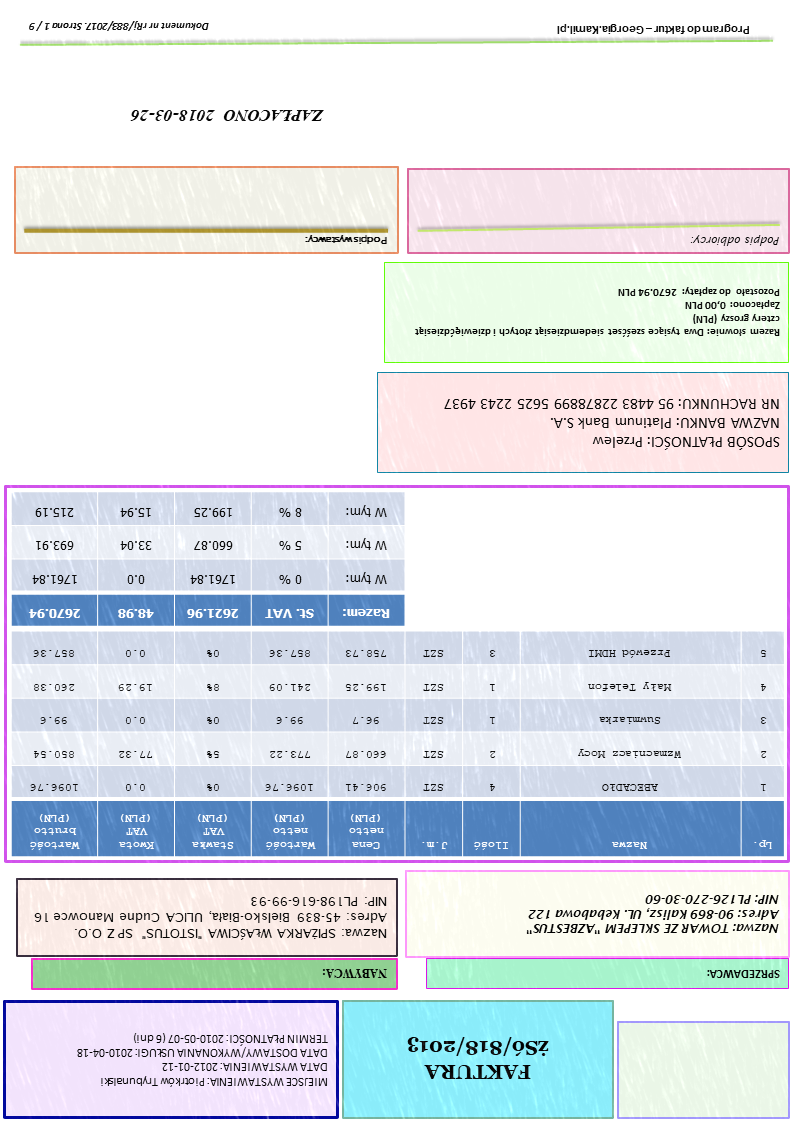Table: (10, 630, 786, 858), (11, 492, 407, 627)
TextBox: (441, 394, 782, 454), (413, 286, 783, 339), (32, 893, 391, 941), (75, 1030, 331, 1092), (526, 892, 782, 936), (404, 1034, 553, 1083), (128, 106, 328, 126), (555, 22, 752, 39), (27, 17, 211, 34), (688, 231, 783, 249), (305, 232, 390, 247), (705, 966, 784, 982), (321, 965, 390, 981)
